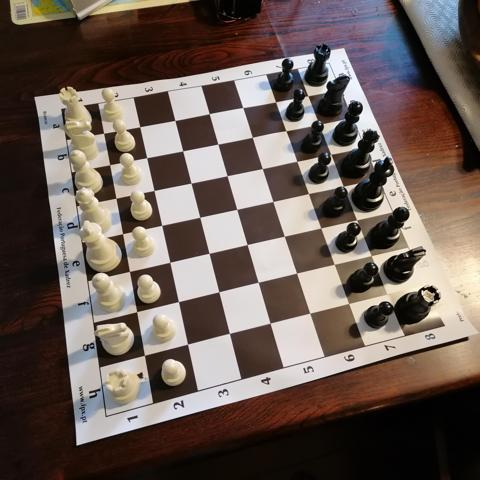xcorner: (302, 89, 317, 104), (236, 100, 251, 115), (167, 112, 182, 127), (175, 143, 190, 158), (291, 154, 306, 169), (256, 161, 271, 176), (220, 168, 235, 183), (107, 190, 122, 205), (267, 194, 282, 209), (352, 213, 367, 228), (316, 221, 331, 236), (162, 255, 177, 270), (129, 305, 144, 320), (344, 297, 359, 312), (305, 307, 320, 322), (265, 317, 280, 332), (181, 338, 196, 353), (269, 95, 284, 109), (202, 106, 216, 121), (131, 119, 146, 133), (280, 124, 295, 138), (211, 136, 225, 151), (138, 150, 153, 164), (184, 175, 198, 190), (338, 180, 353, 194), (303, 187, 318, 201), (231, 202, 245, 217), (154, 218, 168, 233), (114, 226, 128, 241), (279, 230, 294, 244), (241, 238, 256, 252), (202, 247, 217, 261), (121, 265, 136, 279), (367, 249, 381, 264), (330, 258, 344, 273), (292, 267, 306, 282), (253, 276, 267, 291), (172, 295, 186, 310), (382, 288, 397, 302), (224, 327, 238, 342), (138, 349, 152, 364), (95, 125, 109, 139), (314, 118, 328, 132), (246, 130, 260, 144), (101, 157, 115, 171), (326, 148, 340, 162), (146, 183, 160, 197), (193, 210, 207, 224), (213, 286, 227, 300)
